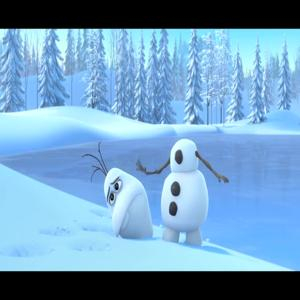olaf: (78, 128, 230, 253)
